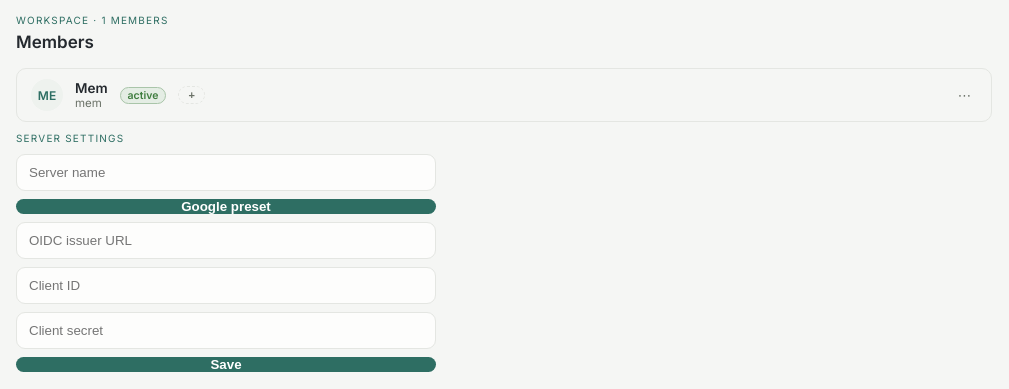
Scenario: AdminArea › active 멤버 행의 권한 팝오버에 위키 파괴 3키 체크박스가 렌더된다
Click the button titled "add permission".
click(192, 95)  # box x1=178 y1=86 x2=205 y2=104
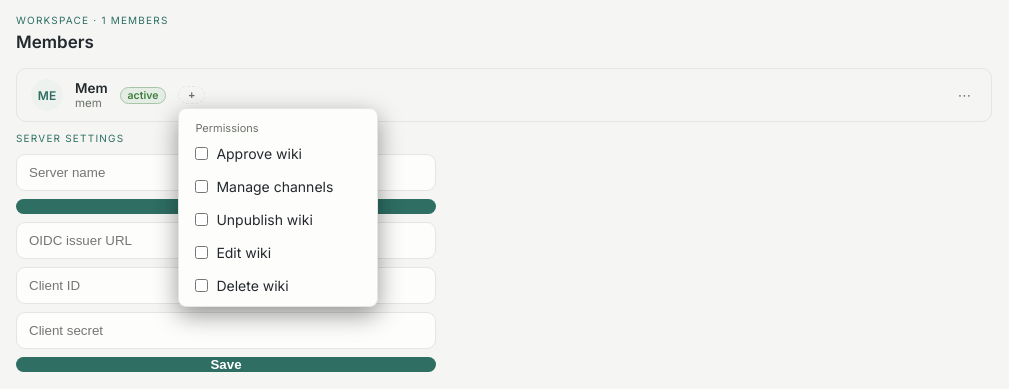
expect the checkbox labelled "Unpublish wiki" is shown: met, box x1=195 y1=213 x2=208 y2=226
expect the checkbox labelled "Edit wiki" is shown: met, box x1=195 y1=246 x2=208 y2=259
expect the checkbox labelled "Delete wiki" is shown: met, box x1=195 y1=279 x2=208 y2=292
